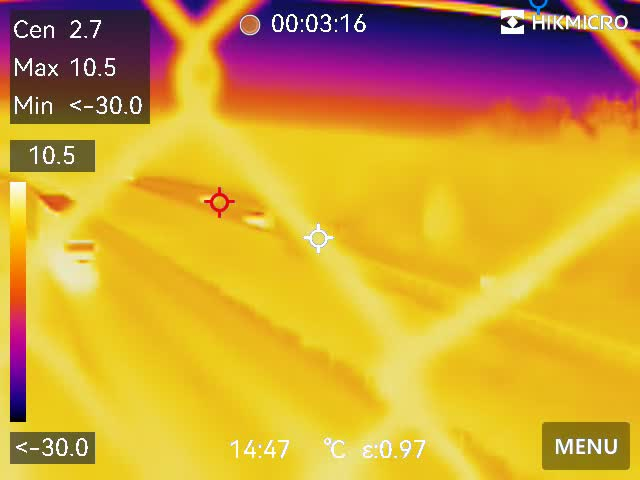heavyTruck: (33, 193, 101, 277)
